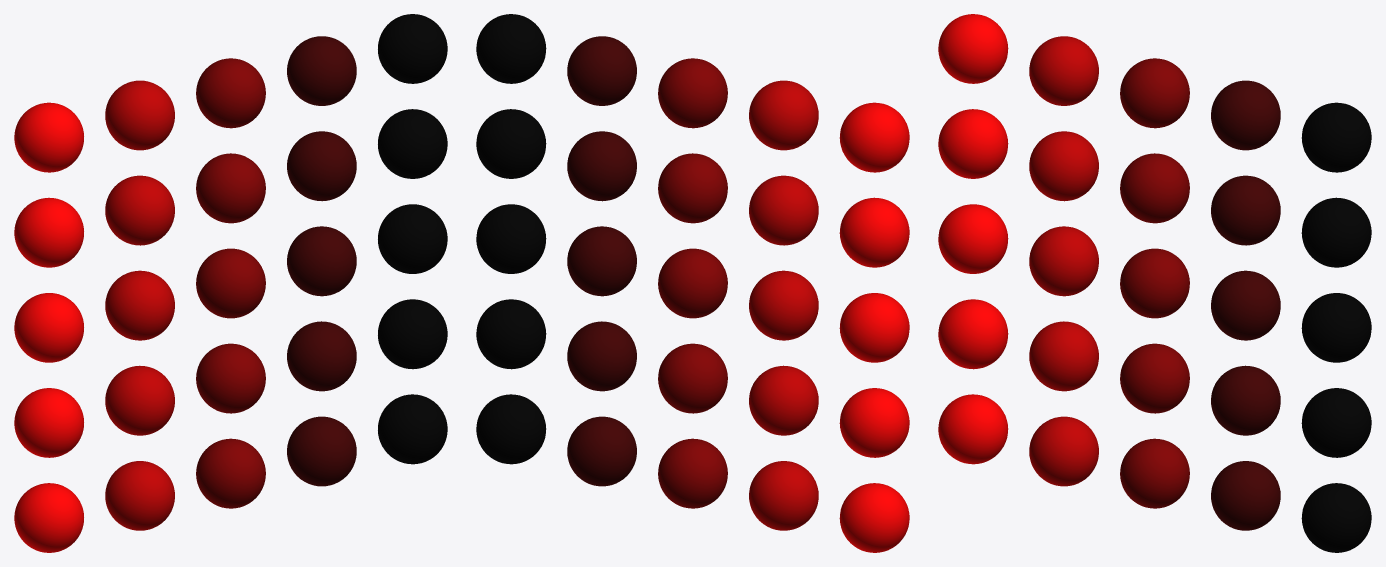
The model's file is geospheres_5x5.obj.
3 views of the same model, side by side, from view 1: azimuth 30°, elevation 25°; view 2: azimuth 150°, elevation 25°; view 3: azimuth 330°, elevation 25° (orthographic).
Visible parts, largest first — view 1: GeoSphere013, GeoSphere008, GeoSphere018, GeoSphere004, GeoSphere009, GeoSphere017, GeoSphere022, GeoSphere005, GeoSphere021, GeoSphere003, GeoSphere012, GeoSphere014 (+13 smaller); view 2: GeoSphere004, GeoSphere005, GeoSphere021, GeoSphere022, GeoSphere009, GeoSphere011, GeoSphere012, GeoSphere013, GeoSphere014, GeoSphere015, GeoSphere017, GeoSphere007 (+13 smaller); view 3: GeoSphere001, GeoSphere002, GeoSphere024, GeoSphere025, GeoSphere007, GeoSphere011, GeoSphere012, GeoSphere013, GeoSphere014, GeoSphere015, GeoSphere019, GeoSphere009 (+13 smaller).
Part boxes in pixels (x1=…): GeoSphere013: x1=196, y1=248, x2=265, y2=318; GeoSphere008: x1=196, y1=343, x2=265, y2=413; GeoSphere018: x1=196, y1=153, x2=265, y2=223; GeoSphere004: x1=287, y1=416, x2=356, y2=486; GeoSphere009: x1=287, y1=321, x2=356, y2=391; GeoSphere017: x1=105, y1=175, x2=174, y2=245; GeoSphere022: x1=105, y1=80, x2=174, y2=150; GeoSphere005: x1=378, y1=394, x2=447, y2=464; GeoSphere021: x1=14, y1=102, x2=83, y2=172; GeoSphere003: x1=196, y1=438, x2=265, y2=508; GeoSphere012: x1=105, y1=270, x2=174, y2=340; GeoSphere014: x1=287, y1=226, x2=356, y2=296; GeoSphere004: x1=567, y1=416, x2=636, y2=486; GeoSphere005: x1=476, y1=394, x2=546, y2=464; GeoSphere021: x1=839, y1=102, x2=909, y2=172; GeoSphere022: x1=749, y1=80, x2=818, y2=150; GeoSphere009: x1=567, y1=321, x2=636, y2=391; GeoSphere011: x1=839, y1=293, x2=909, y2=362; GeoSphere012: x1=749, y1=270, x2=818, y2=340; GeoSphere013: x1=658, y1=248, x2=727, y2=318; GeoSphere014: x1=567, y1=226, x2=636, y2=296; GeoSphere015: x1=476, y1=204, x2=546, y2=273; GeoSphere017: x1=749, y1=175, x2=818, y2=245; GeoSphere007: x1=749, y1=365, x2=818, y2=435; GeoSphere001: x1=938, y1=394, x2=1008, y2=464; GeoSphere002: x1=1029, y1=416, x2=1098, y2=486; GeoSphere024: x1=1211, y1=80, x2=1280, y2=150; GeoSphere025: x1=1301, y1=102, x2=1371, y2=172; GeoSphere007: x1=1029, y1=321, x2=1098, y2=391; GeoSphere011: x1=938, y1=204, x2=1008, y2=273; GeoSphere012: x1=1029, y1=226, x2=1098, y2=296; GeoSphere013: x1=1120, y1=248, x2=1189, y2=318; GeoSphere014: x1=1211, y1=270, x2=1280, y2=340; GeoSphere015: x1=1301, y1=293, x2=1371, y2=362; GeoSphere019: x1=1211, y1=175, x2=1280, y2=245; GeoSphere009: x1=1211, y1=365, x2=1280, y2=435.
Bounding box in the file's own units: 14 × 14 × 2.
